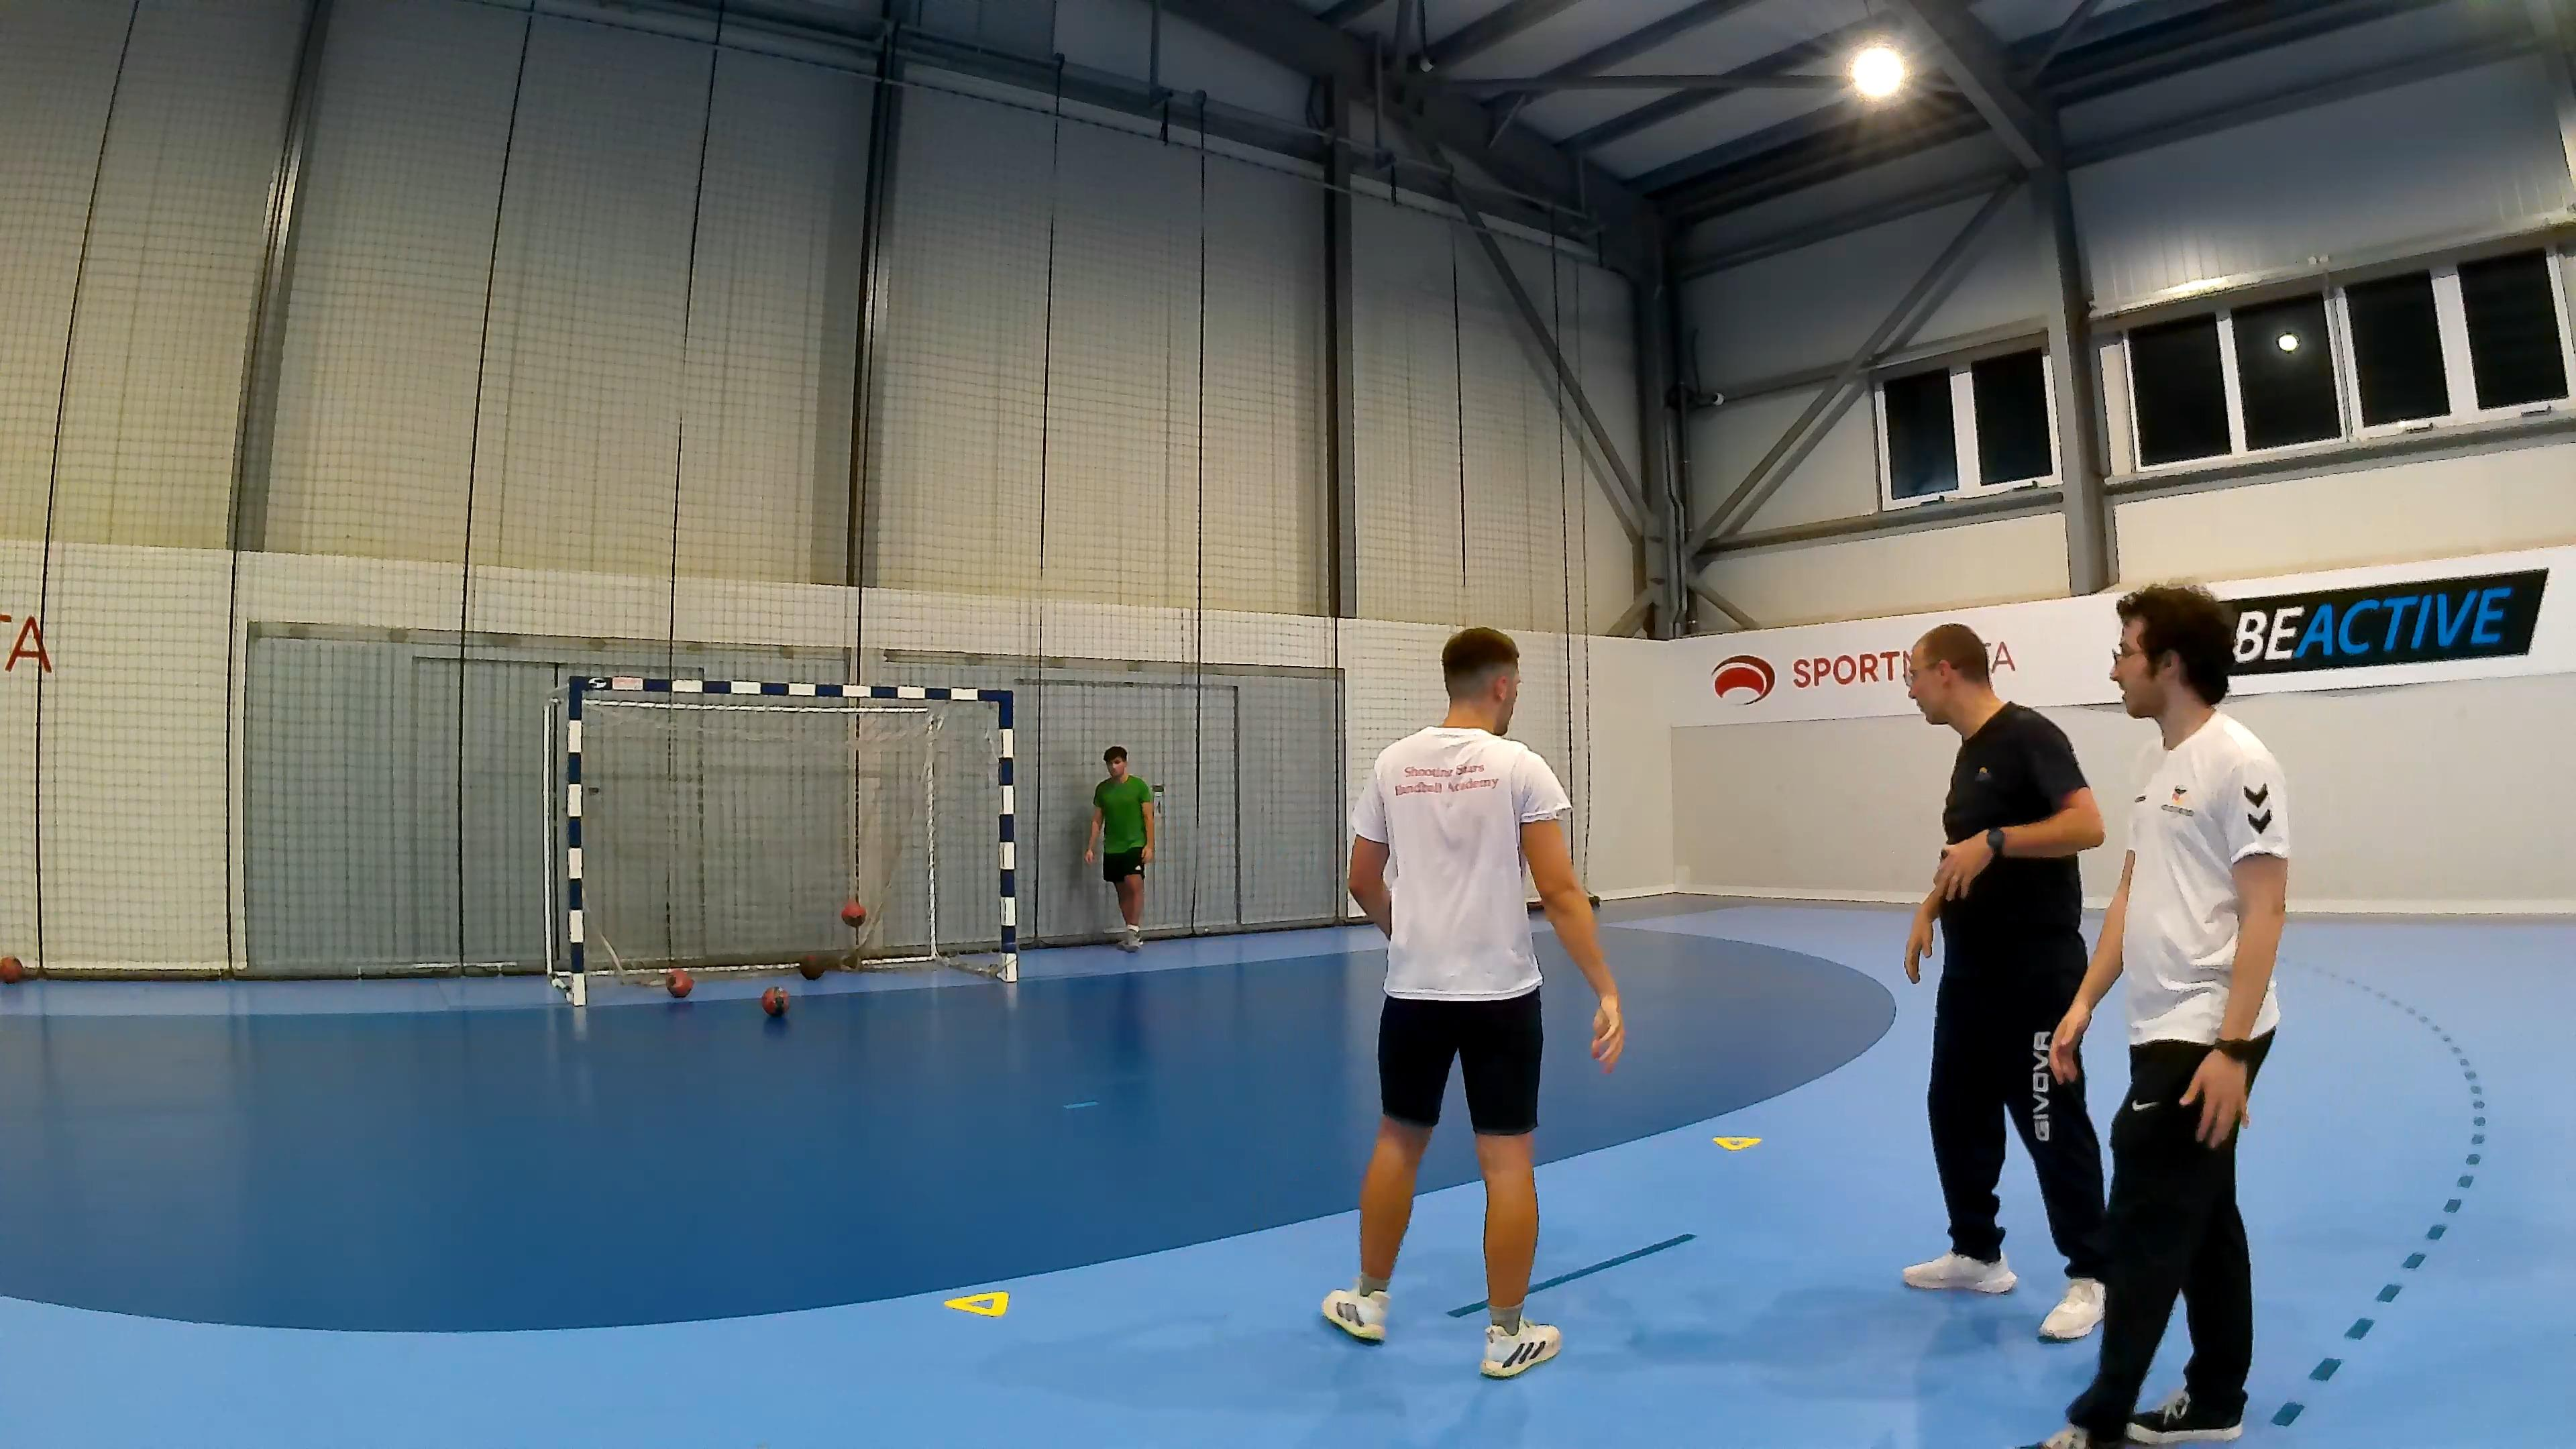handball: (833, 895, 876, 931), (798, 950, 830, 982), (761, 985, 789, 1016), (665, 970, 694, 998)
